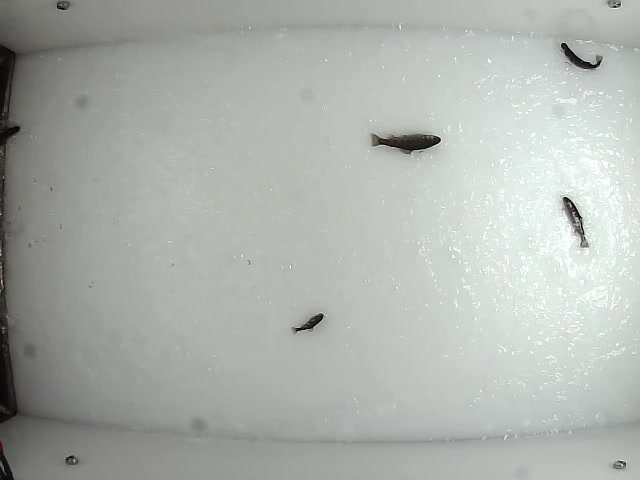fish: (368, 129, 442, 156), (563, 195, 592, 249), (560, 39, 604, 71), (289, 311, 324, 336)
